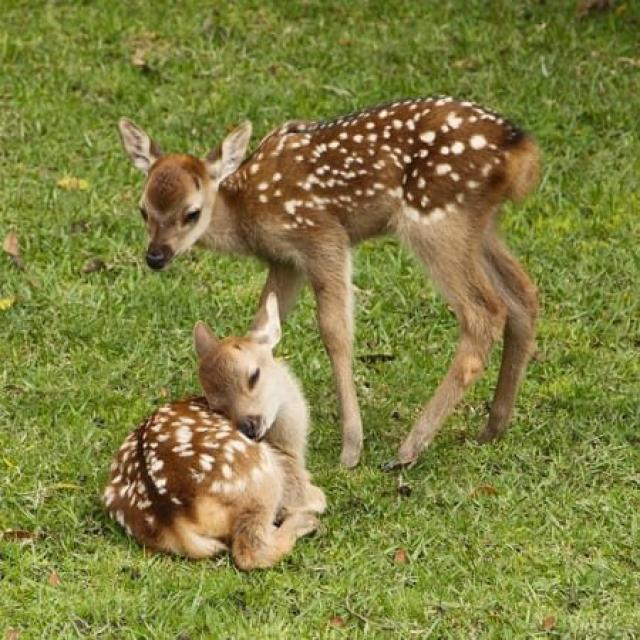not_pig: (115, 92, 543, 472), (101, 288, 327, 570)
